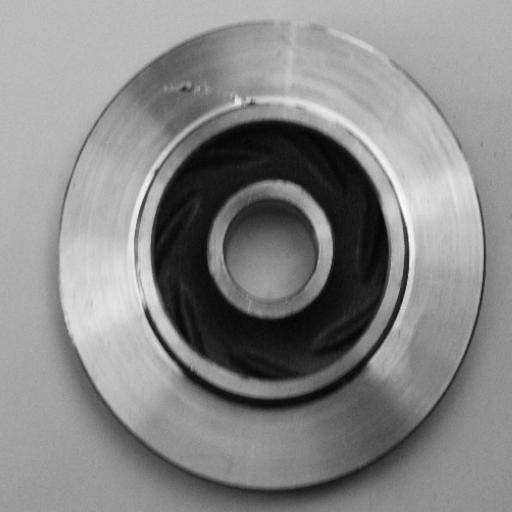crack: (167, 72, 270, 113)
unpolished_casting: (52, 19, 488, 492)
